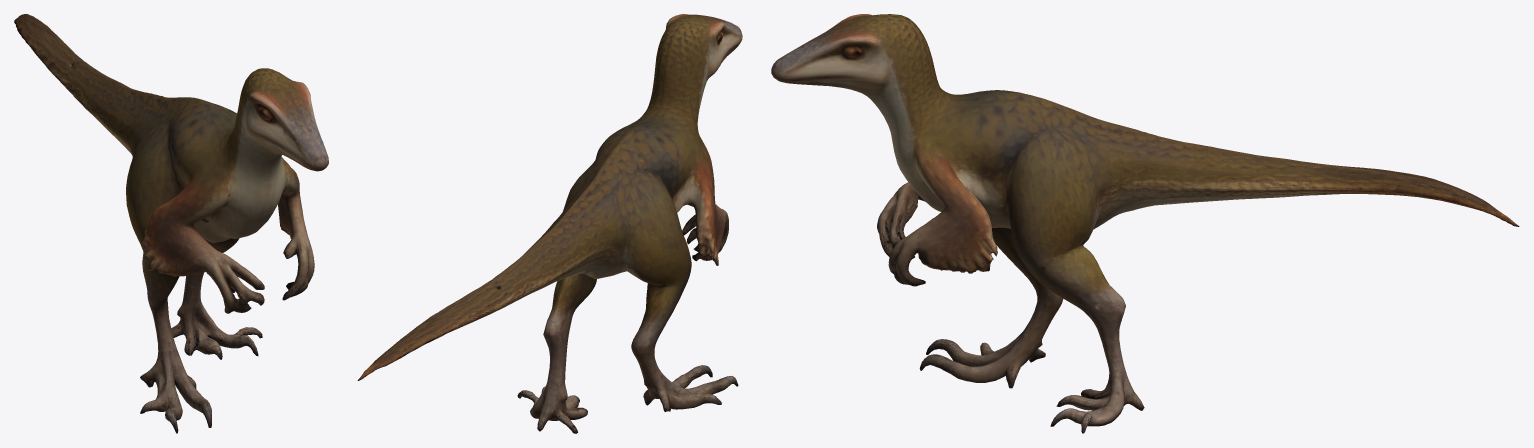
3 views of the same model, side by side, from view 1: azimuth 30°, elevation 25°; view 2: azimuth 150°, elevation 25°; view 3: azimuth 270°, elevation 25° (orthographic). The views are drawn at different scales.
Parts seen in each view (by area): view 1: geometry_0; view 2: geometry_0; view 3: geometry_0.
Part boxes in pixels (x1,y1,x2,y2): geometry_0: (14,14,328,433); geometry_0: (357,14,742,433); geometry_0: (771,14,1519,433).
Bounding box in the file's own units: 0.4426 × 0.8996 × 1.6.
1 material, 1 textured.
